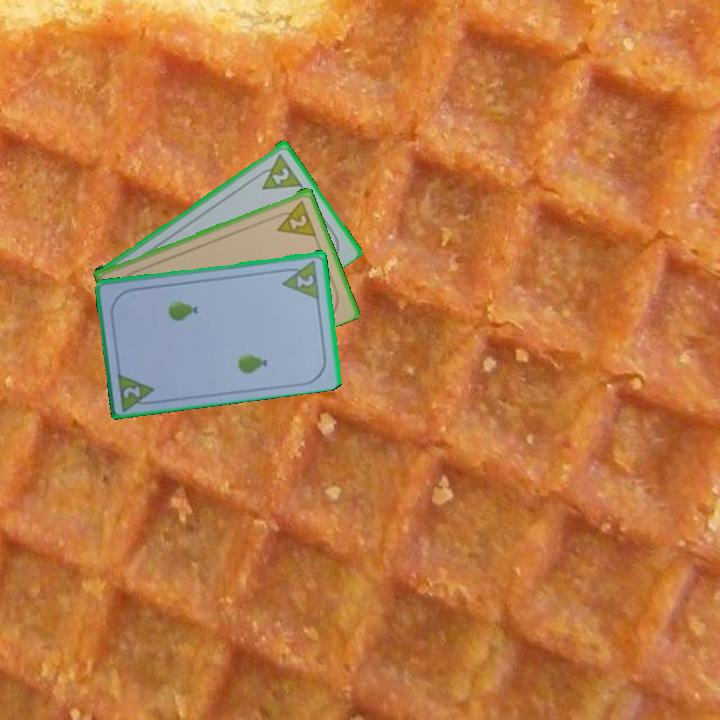2p: (270, 196, 319, 239), (278, 256, 322, 301), (268, 163, 293, 187), (119, 382, 144, 401)
